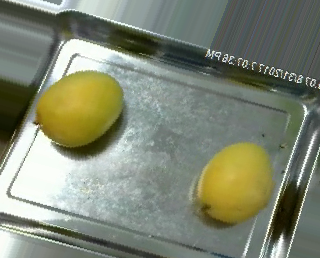Mango: (30, 67, 133, 153), (191, 135, 284, 230)
